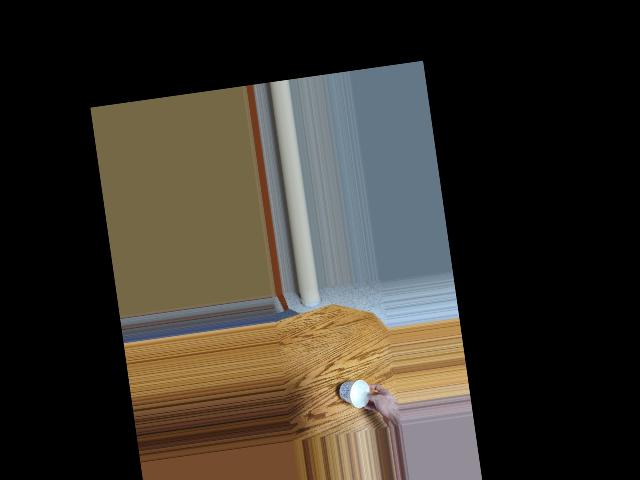cotage: (339, 379, 371, 404)
